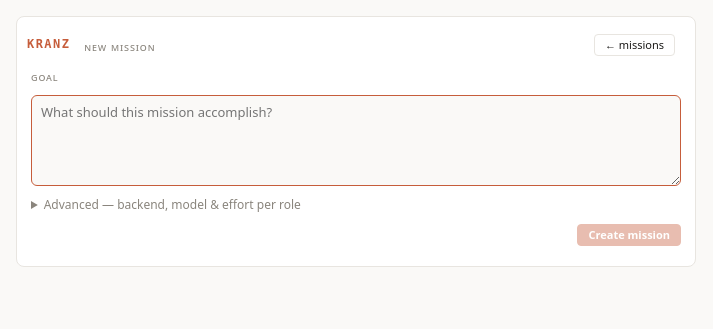
Scenario: NewMission › renders the server validation message inline
This screenshot has width=713, height=329.
Type "bad floor" into the text box labelled "Goal" at (356,141), box [31,95,681,186]
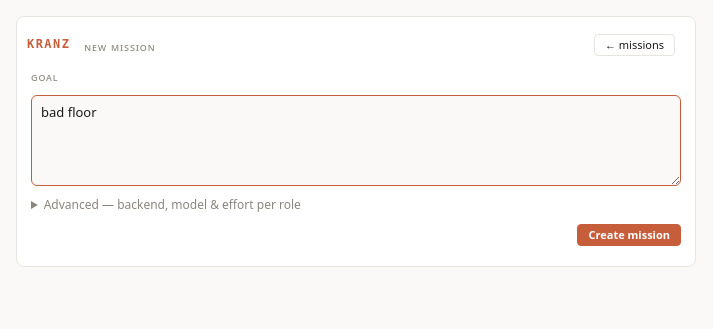
Click the button "Create mission" at (629,235), box [578,224,681,246]
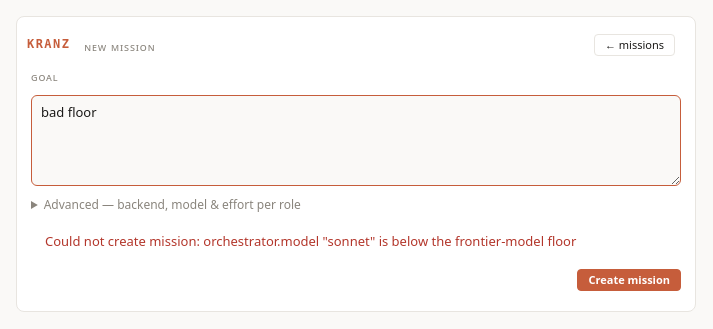
Expected: the message shows "below the frontier-model floor", [203,232,576,250]
